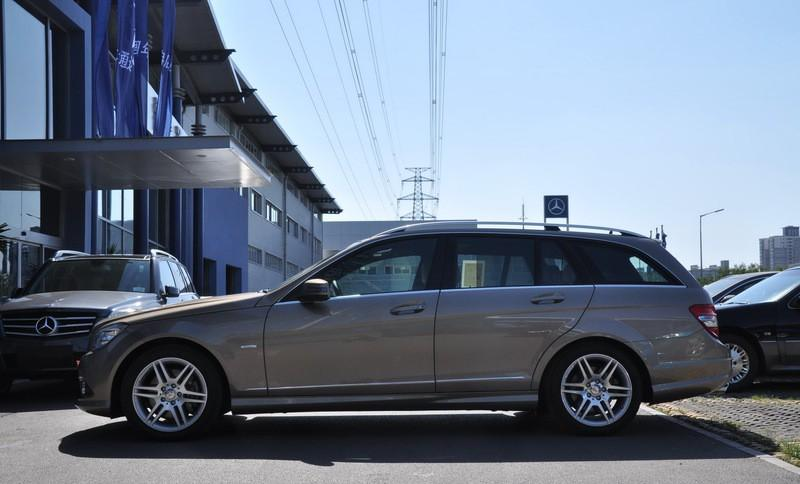Wagon: (73, 218, 733, 441)
